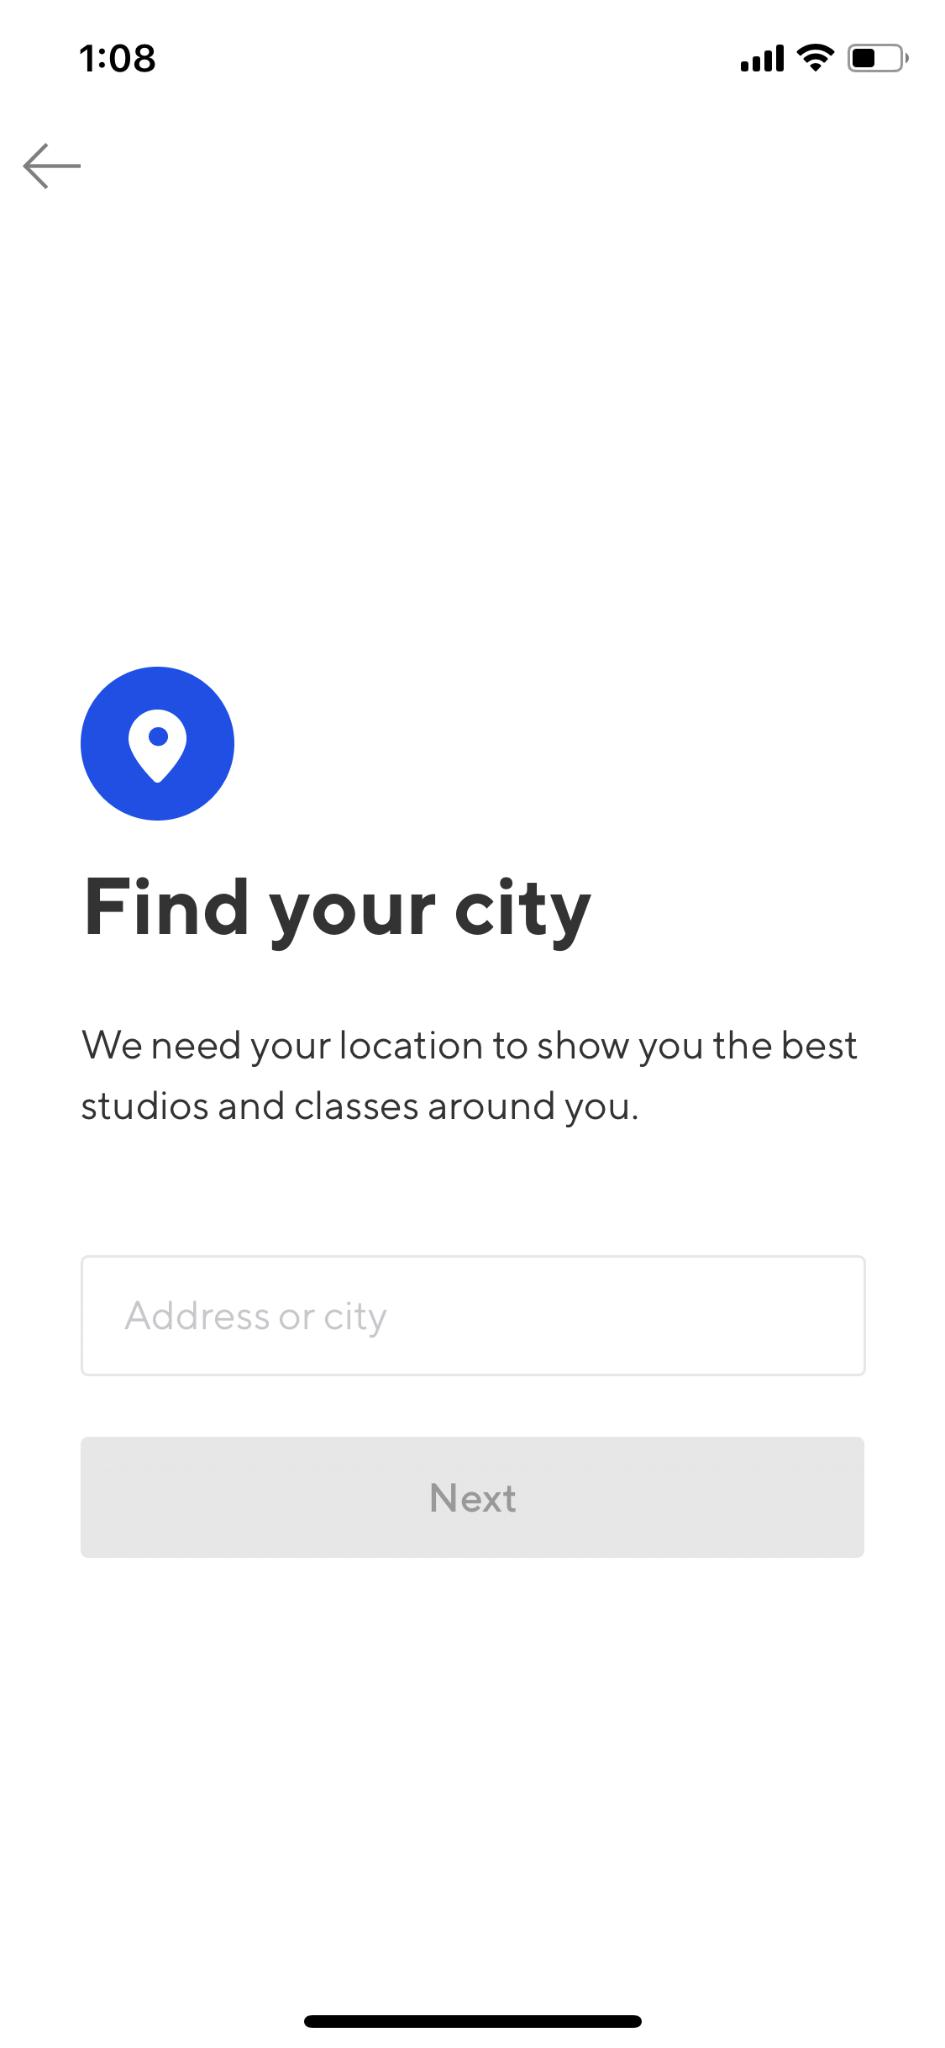Buttons: (74, 1420, 878, 1573), (5, 118, 108, 216)
Text Fields: (77, 1240, 884, 1398)
